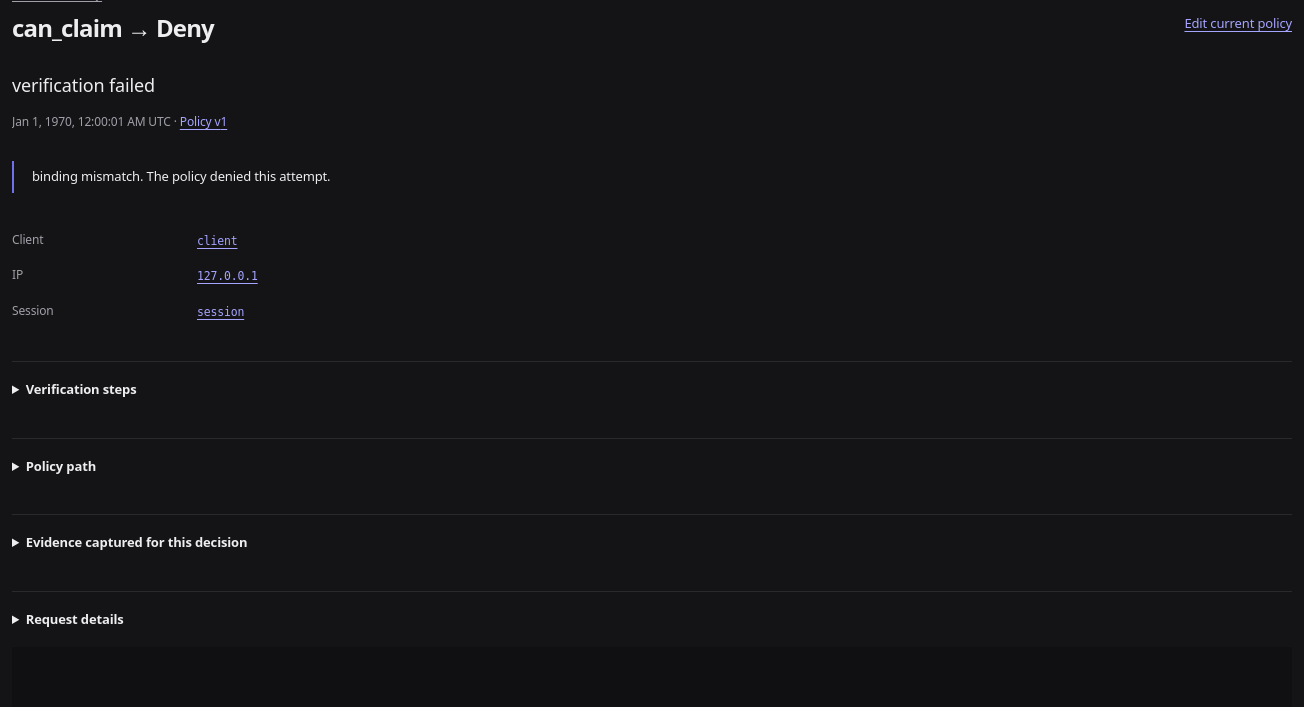
Test: captured evidence and verification › shows sequential verification transitions without treating a passed step as authorization
Check: the heading "can_claim → Deny" is shown, box [12,14,214,43]
Check: the text "binding mismatch. The policy denied this attempt." is shown, box [12,161,1292,193]
Click the heading "Verification steps".
click(81, 389)  # box [26,380,137,398]
(page scrolled)
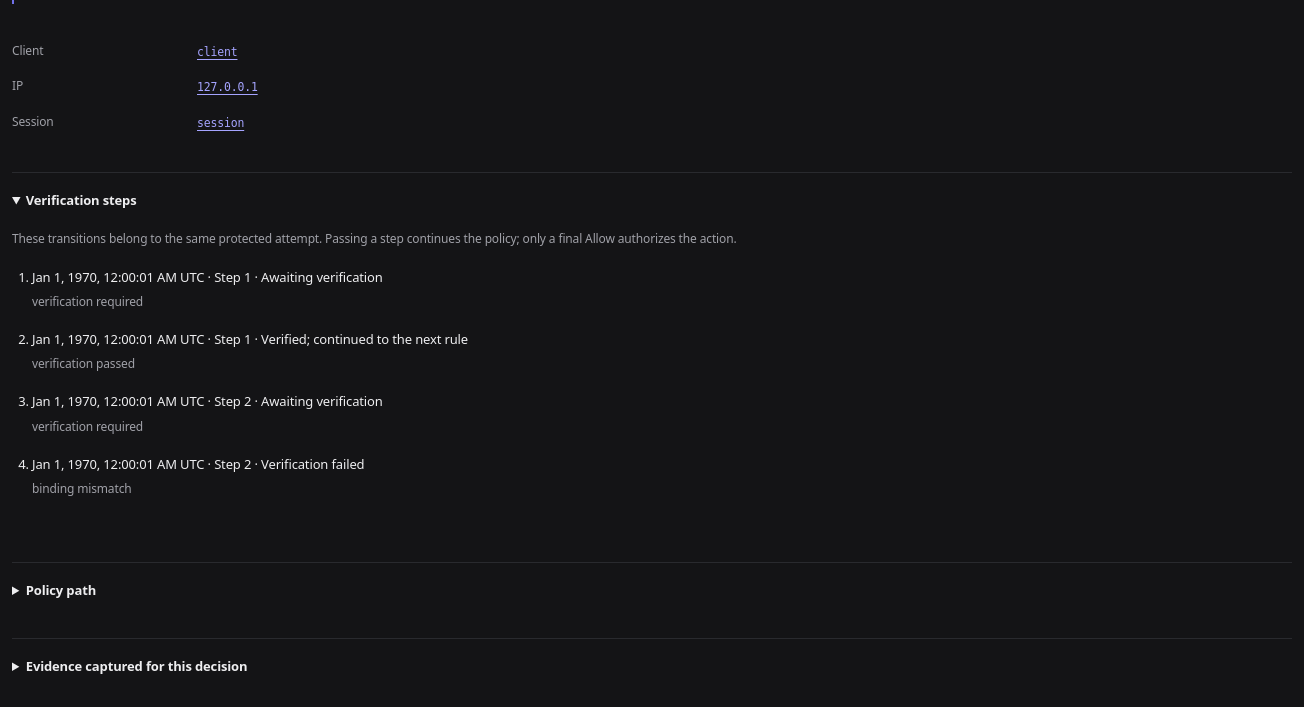
Check: the element that starts with "Verification steps" shows "only a final Allow authorizes the action", box [12,230,736,247]
Check: the element that starts with "Verification steps" shows "Step 1 · Verified; continued to the next rule", box [12,172,1292,542]
Check: the element that starts with "Verification steps" shows "Step 2 · Verification failed", box [12,172,1292,542]
